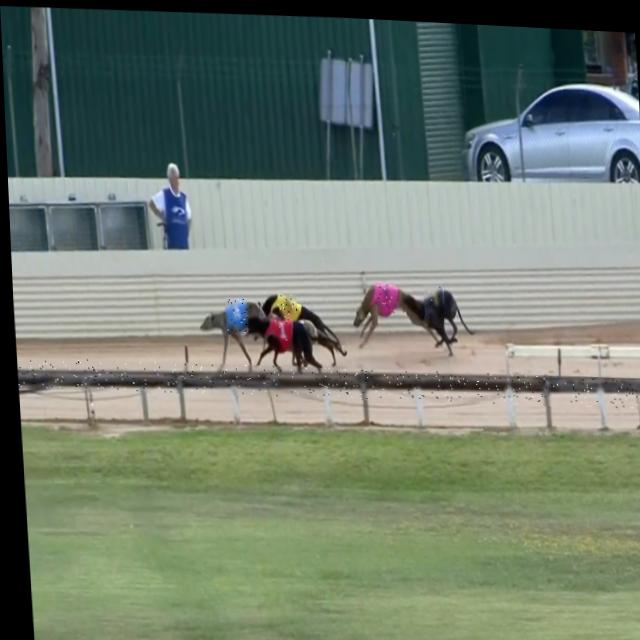dog_eight: (372, 278, 392, 309)
dog_five: (275, 290, 294, 315)
dog_four: (221, 294, 245, 332)
dog_one: (268, 313, 289, 348)
dog_seven: (420, 280, 442, 319)
rail: (14, 369, 640, 388)
